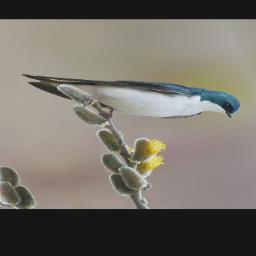Swallow: (17, 50, 248, 141)
